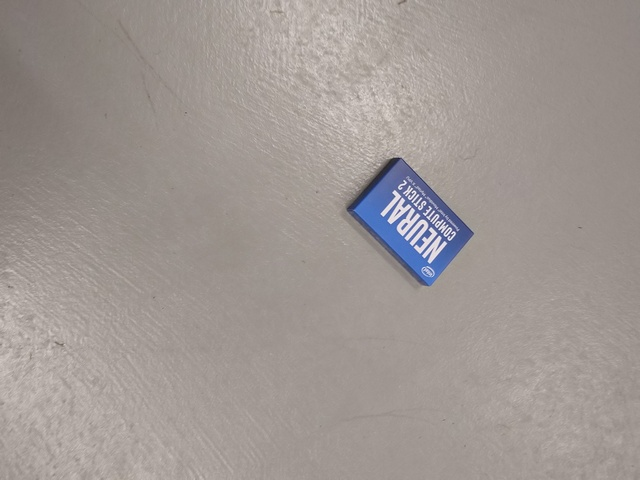box: (345, 157, 476, 288)
